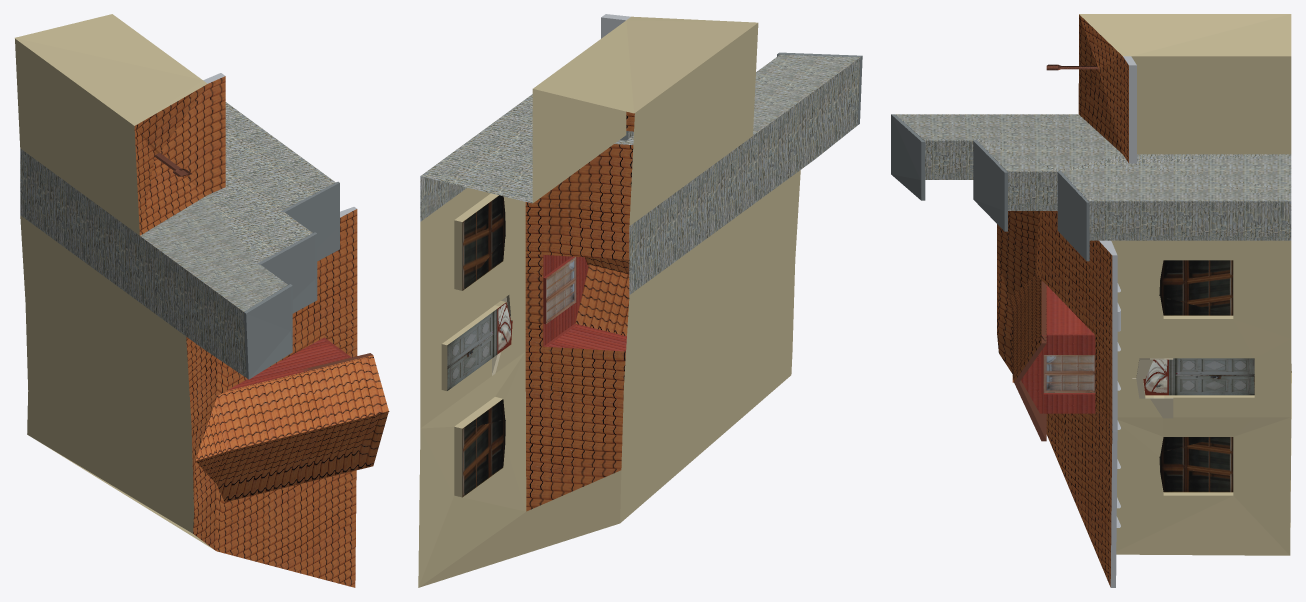
The model's file is Ryytli_24_2-origo.obj.
3 renders of one model, left to right at view 1: azimuth 30°, elevation 25°; view 2: azimuth 150°, elevation 25°; view 3: azimuth 270°, elevation 25°, orthographic. The views are drawn at different scales.
Visible parts, largest first — view 1: Ryytli_24_2; view 2: Ryytli_24_2; view 3: Ryytli_24_2.
Part boxes in pixels (box(x1,y1,x2,y2)): Ryytli_24_2: box(14, 14, 389, 587); Ryytli_24_2: box(418, 14, 862, 587); Ryytli_24_2: box(891, 14, 1291, 587).
Size of the model in its own units: 5.69 by 12 by 9.26.
